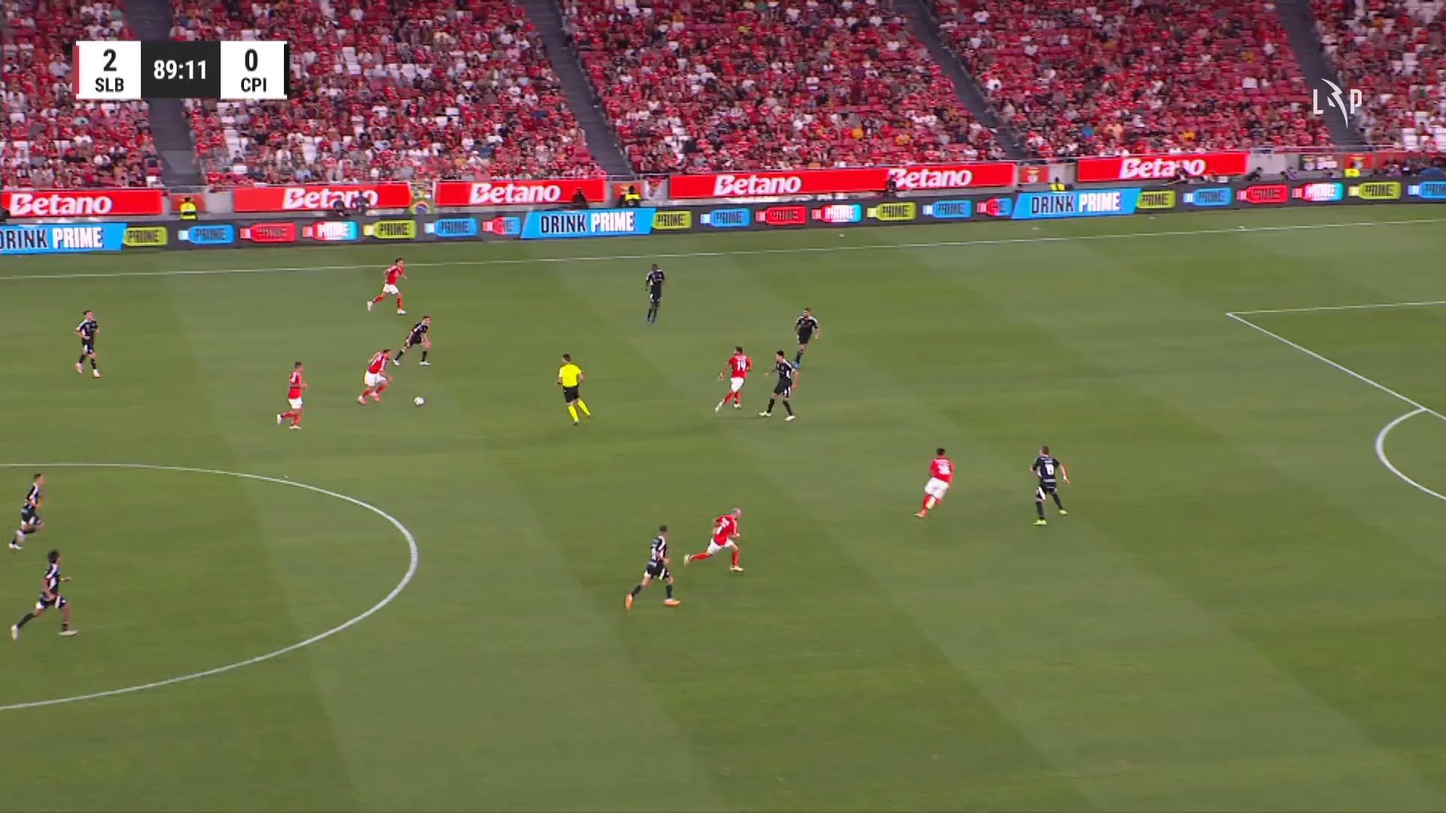ball: (413, 396, 424, 406)
player: (9, 549, 78, 640), (623, 523, 681, 610), (683, 506, 745, 572), (1030, 444, 1071, 525), (8, 471, 47, 550), (913, 446, 954, 519), (758, 349, 799, 421), (713, 345, 752, 413), (366, 256, 407, 315), (355, 348, 398, 404), (276, 360, 308, 430), (392, 314, 432, 366), (73, 309, 102, 378), (791, 306, 820, 370), (643, 262, 665, 324)
referee: (555, 352, 591, 425)
